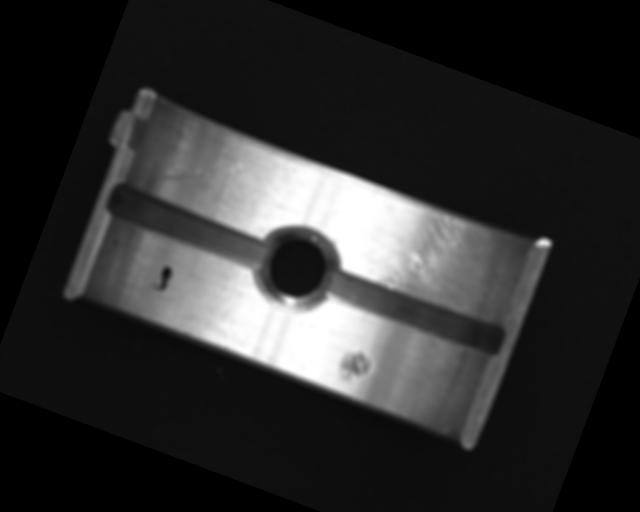blot: (149, 261, 176, 293)
bruise: (333, 345, 375, 391)
gap: (319, 261, 510, 362), (103, 182, 270, 272)
hole: (242, 214, 345, 319)
nick: (150, 135, 245, 209)
scratch: (334, 179, 526, 327)
